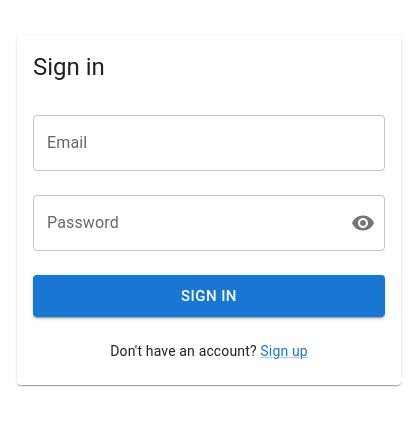
Test case: LoginPage › shows a format error for an invalid email
The image size is (419, 427).
In the field labelled "Email": {"x": 209, "y": 143} x1=33 y1=115 x2=385 y2=171, type "not-an-email"
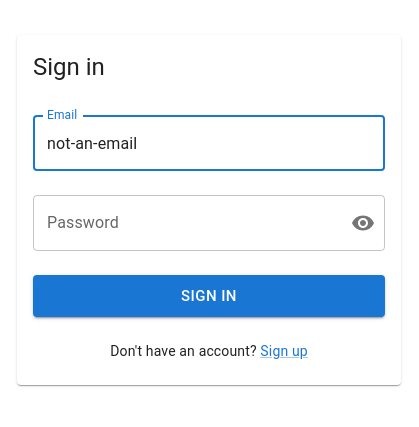
Click the button "Sign in": {"x": 209, "y": 296} x1=33 y1=275 x2=385 y2=317
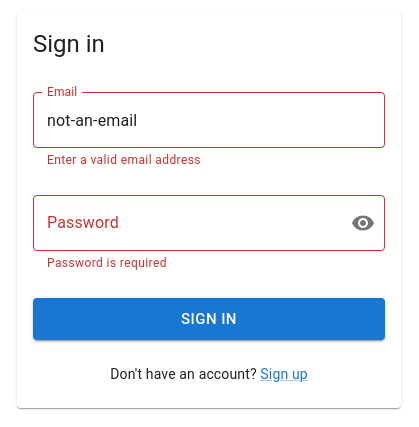
Check: the text "Enter a valid email address" is shown, box x1=47 y1=153 x2=201 y2=167
